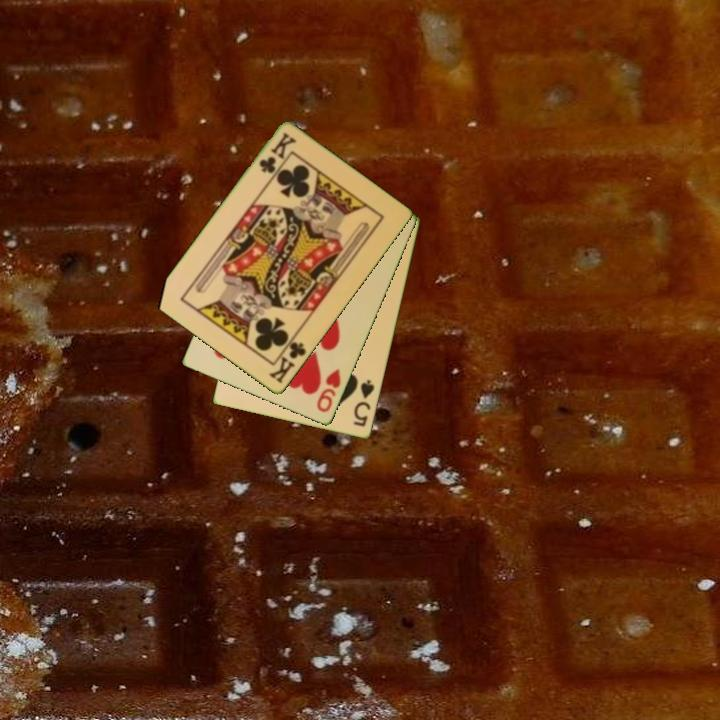5s: (350, 376, 377, 430)
9h: (313, 365, 344, 416)
Kc: (265, 333, 309, 387), (255, 129, 299, 177)
